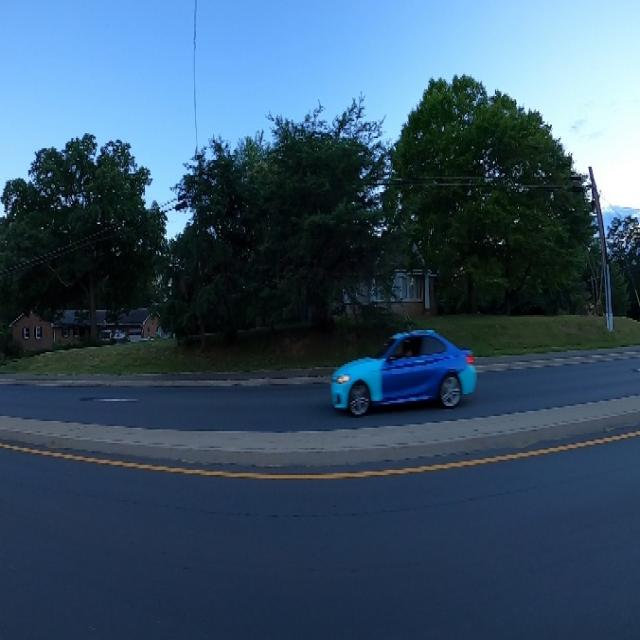cars: (322, 323, 478, 416)
